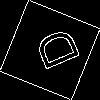D: (25, 25, 81, 76)
